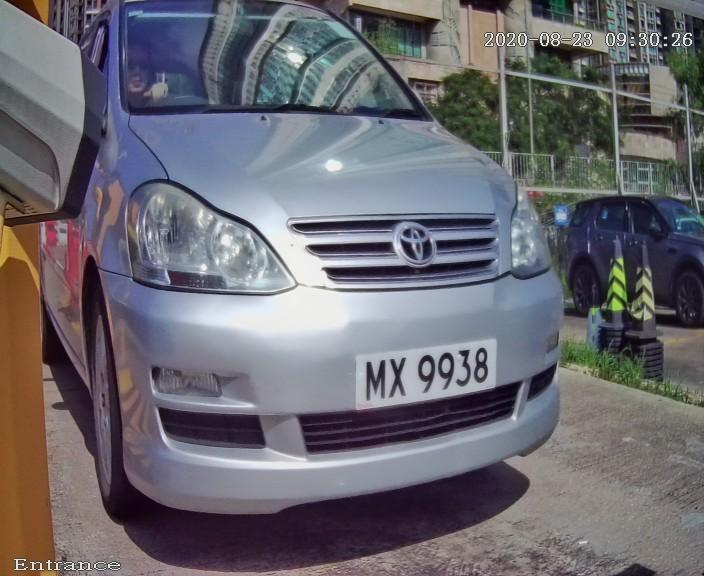Car: (13, 13, 632, 548)
License Plate: (315, 313, 513, 435)
